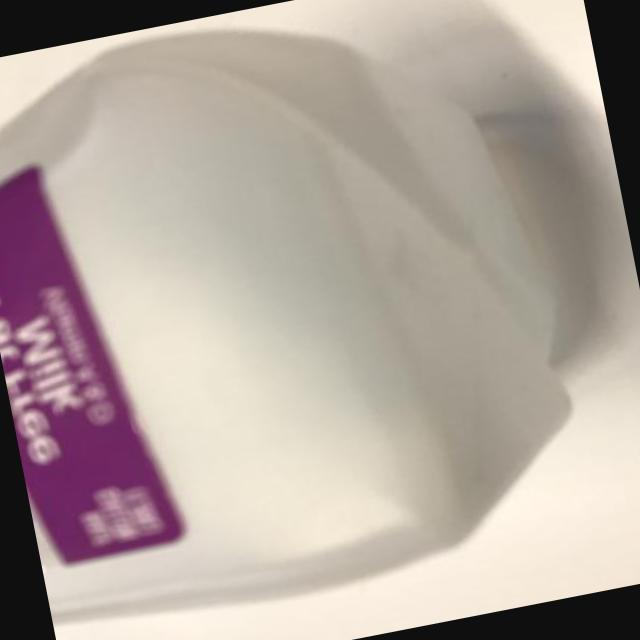plastic: (0, 25, 606, 625)
